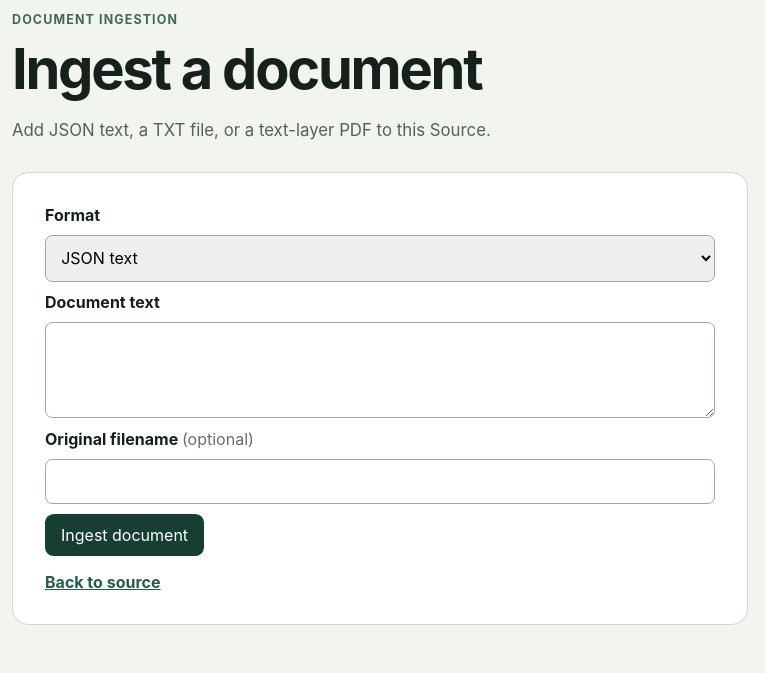
Scenario: document ingestion › rejects malformed success without exposing sensitive content
The width and height of the screenshot is (765, 673).
Type "safe" into the text box labelled "Document text" at (380, 370), box [45, 322, 715, 418]
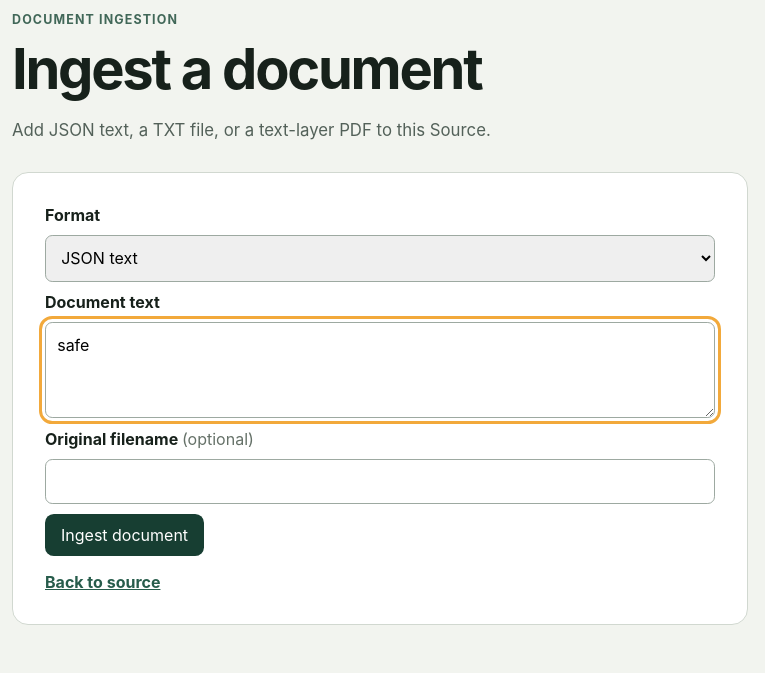
Click the button "Ingest document" at (125, 535), box [45, 514, 204, 556]
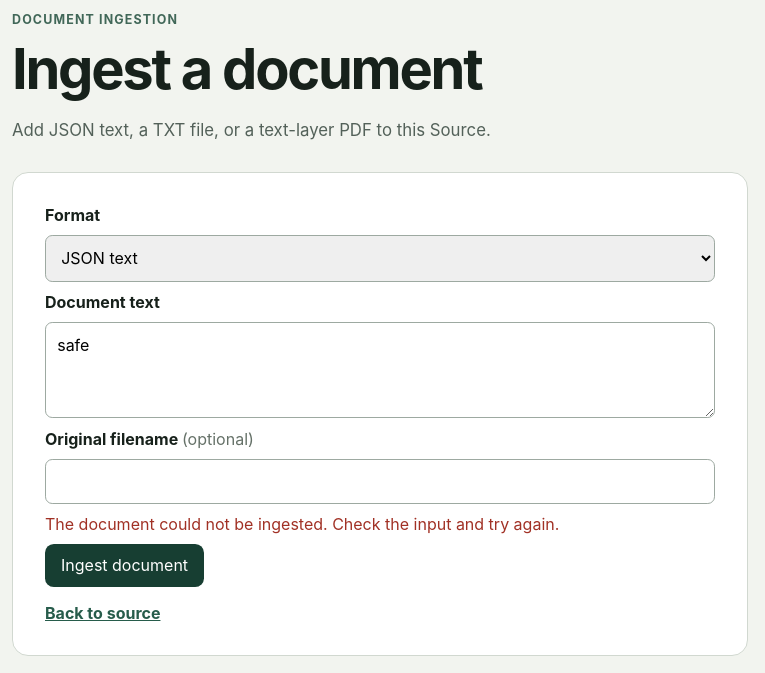
Check: the message shows "could not be ingested", box [45, 514, 559, 534]
